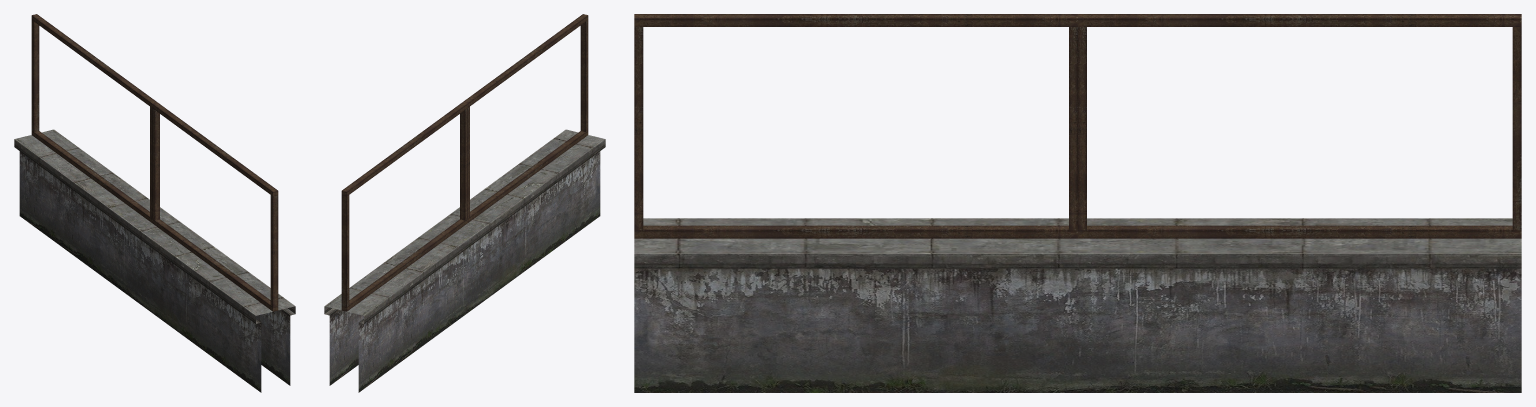
File: Concrete_fence_v2_S.002.glb
The picture shows the model from 3 angles, left to right: view 1: azimuth 30°, elevation 25°; view 2: azimuth 150°, elevation 25°; view 3: azimuth 270°, elevation 25°; orthographic projection. The views are drawn at different scales.
Parts seen in each view (by area): view 1: Concrete_fence_v2_S.002; view 2: Concrete_fence_v2_S.002; view 3: Concrete_fence_v2_S.002.
Boxes of the visible parts, x1=… form: Concrete_fence_v2_S.002: x1=14, y1=14, x2=295, y2=392; Concrete_fence_v2_S.002: x1=324, y1=14, x2=605, y2=392; Concrete_fence_v2_S.002: x1=634, y1=14, x2=1521, y2=392.
Bounding box in the file's own units: 0.5381 × 2.57 × 5.67.
1 material, 1 textured.
